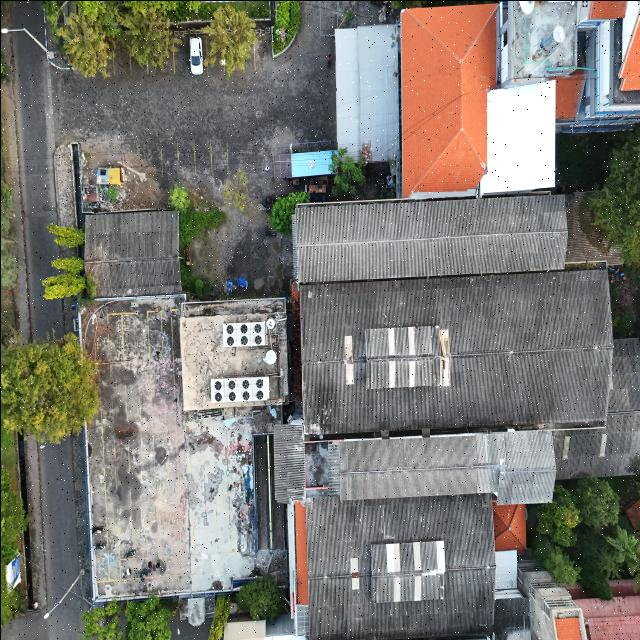Tree: (192, 0, 269, 78), (50, 2, 116, 84), (111, 582, 176, 640), (126, 5, 176, 75), (176, 206, 226, 246)
